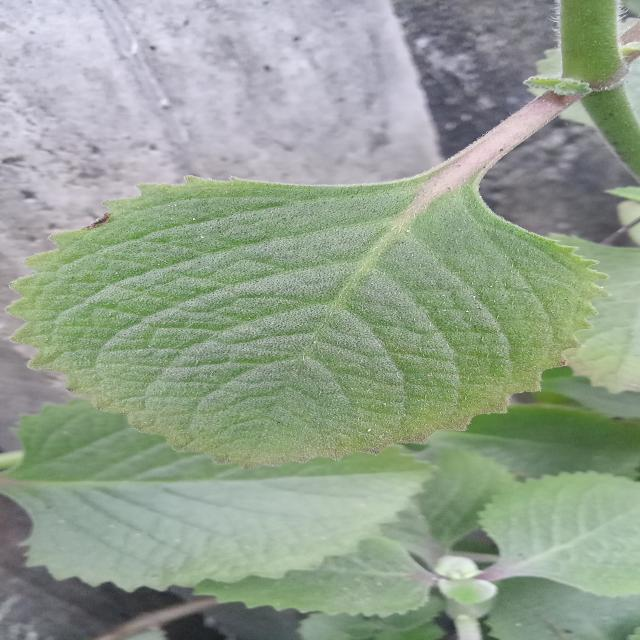Oregano: (11, 166, 640, 485)
